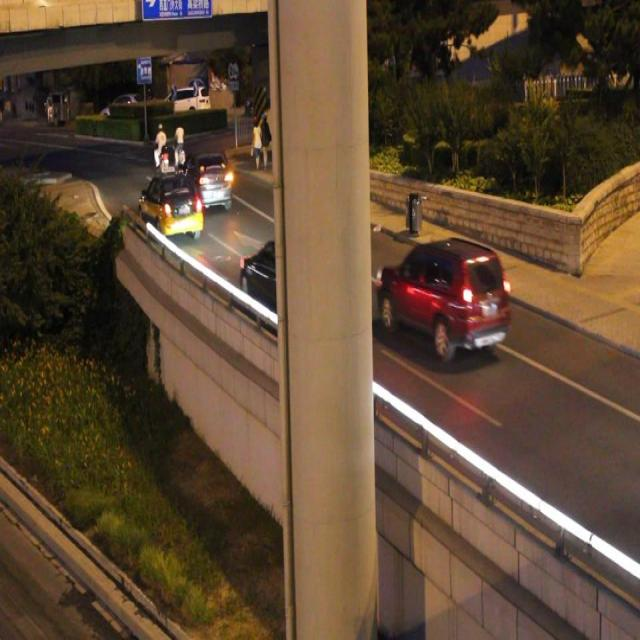car: (378, 236, 509, 360), (240, 233, 335, 329), (139, 167, 204, 237), (186, 151, 232, 212)
